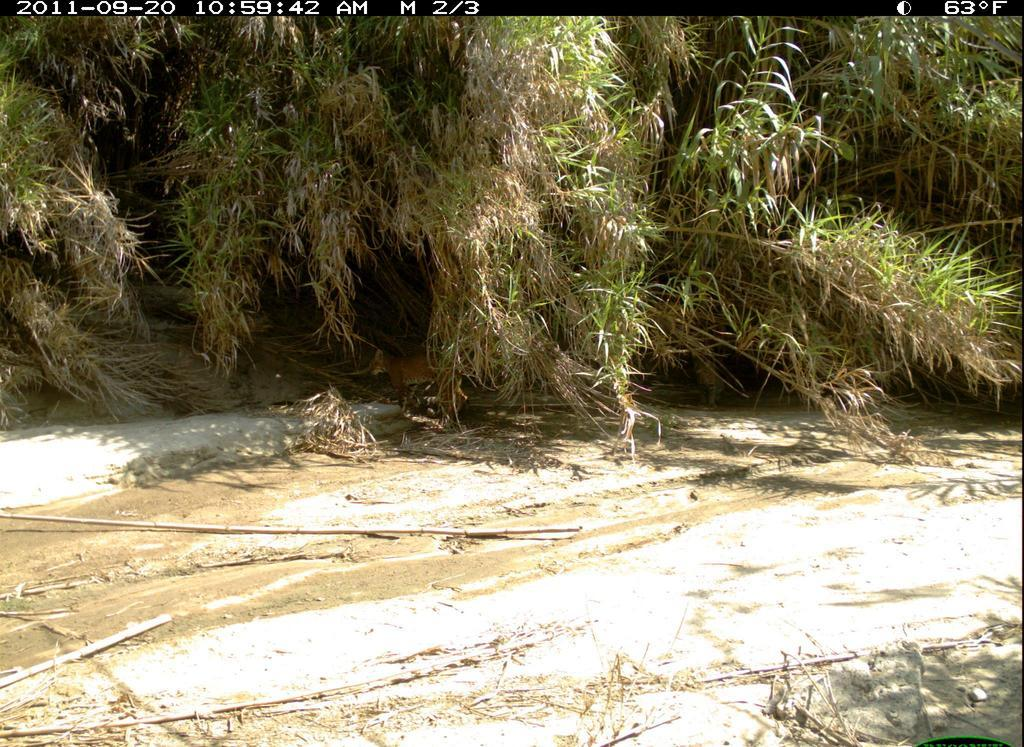bobcat: (367, 349, 470, 423)
